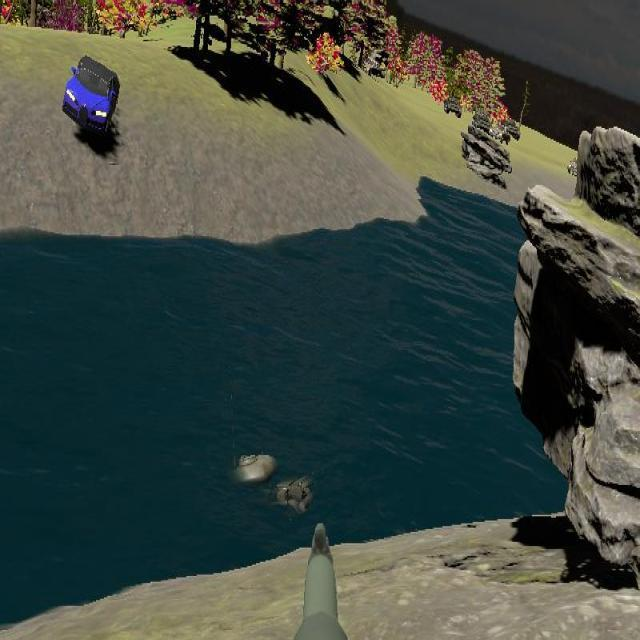car: (63, 54, 120, 138)
